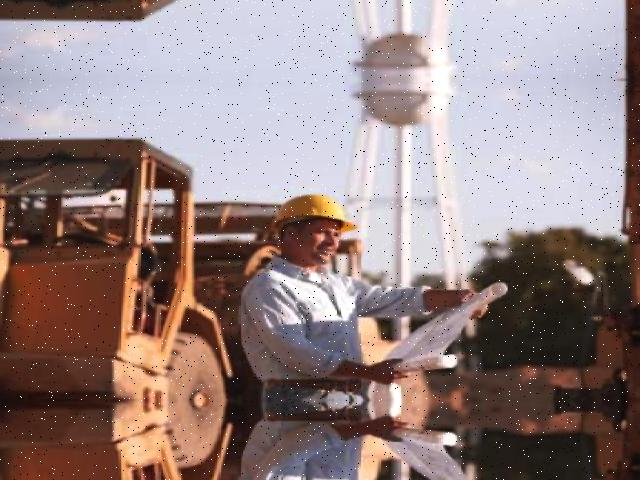Helmet: (262, 187, 361, 237)
